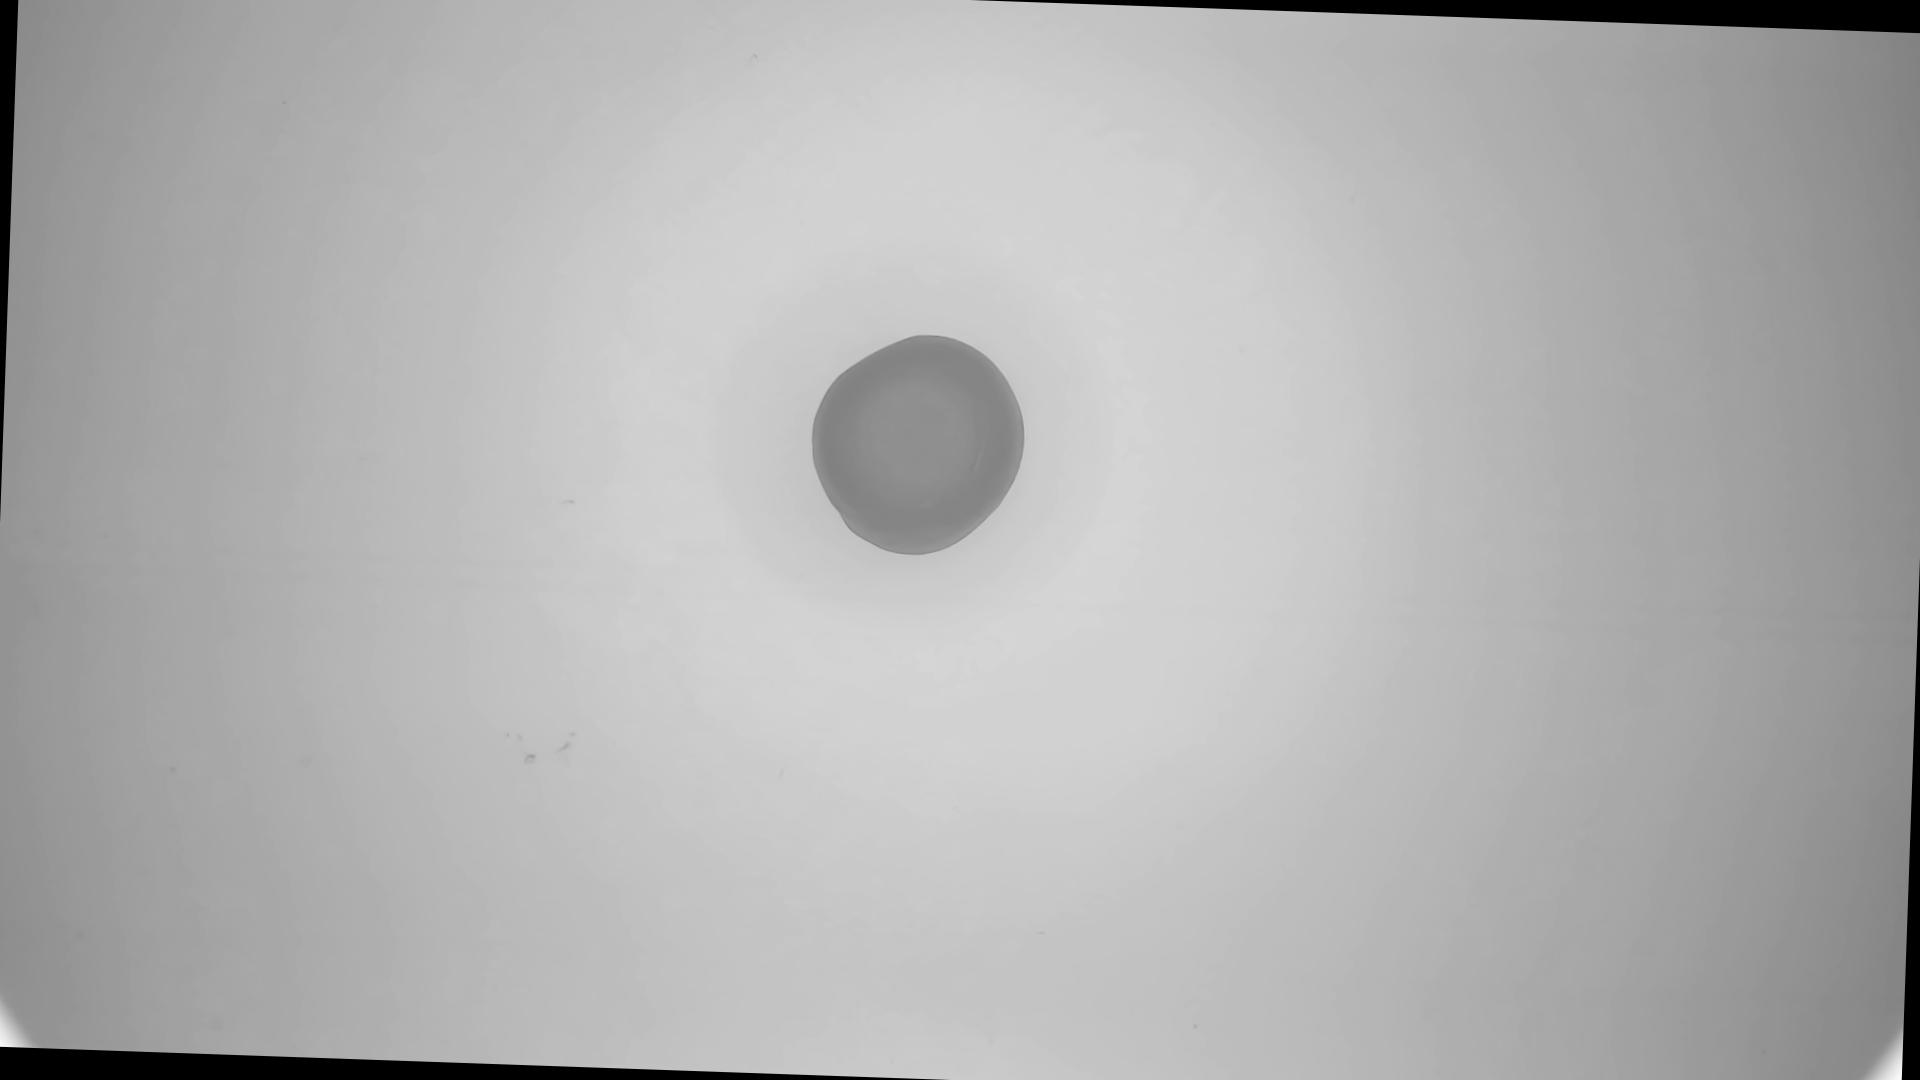normal: (806, 327, 1036, 564)
